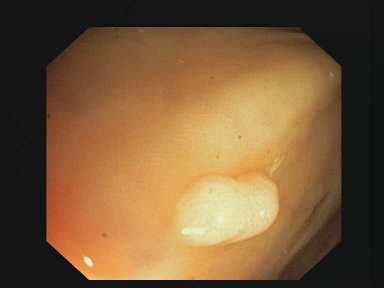polyp: (176, 172, 281, 248)
